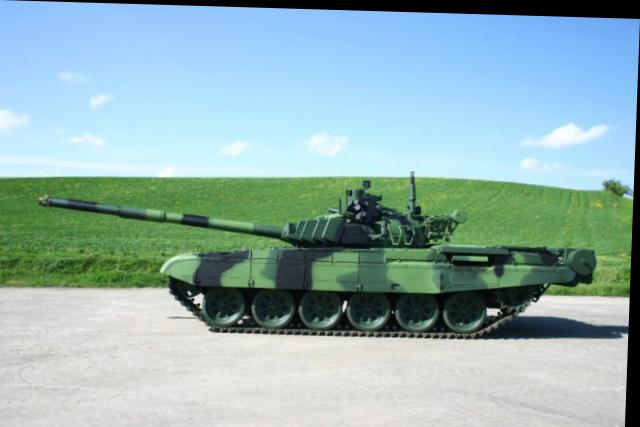tank: (173, 187, 595, 338)
